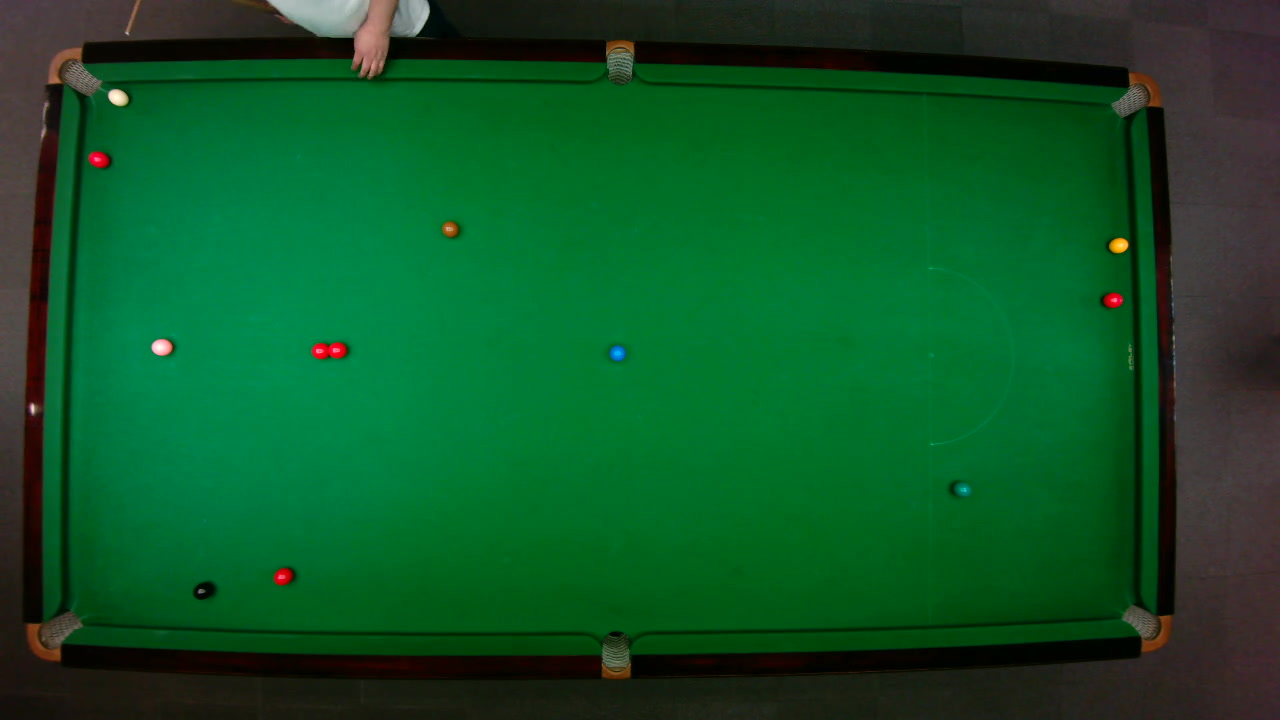bag: (24, 609, 83, 661), (45, 46, 102, 96), (1119, 602, 1171, 652), (1109, 71, 1162, 118), (600, 629, 630, 680), (605, 38, 633, 85)
black: (192, 581, 212, 600)
blue: (607, 343, 626, 361)
brown: (440, 220, 459, 238)
cue: (123, 0, 143, 37)
green: (950, 480, 971, 497)
pink: (149, 337, 173, 356)
red: (271, 565, 294, 585), (86, 149, 110, 168), (325, 340, 347, 359), (1101, 291, 1123, 308), (310, 341, 330, 359)
white: (106, 87, 129, 106)
yellow: (1107, 236, 1129, 253)
zone: (926, 265, 1014, 445)
